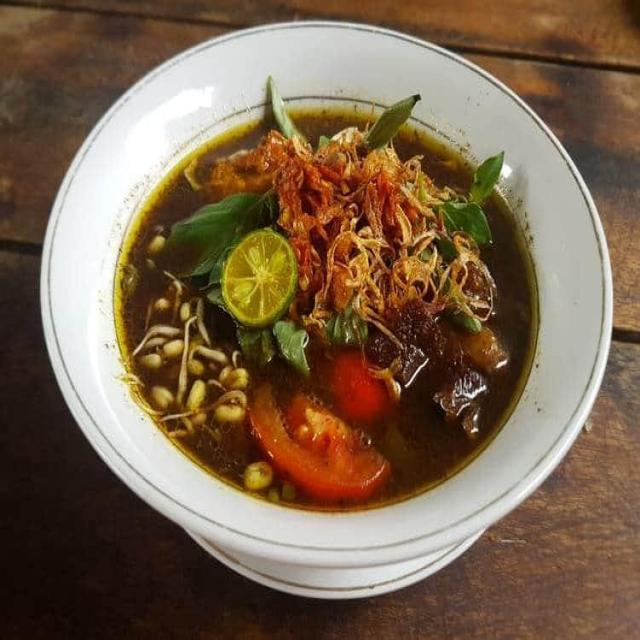Rawon: (117, 105, 526, 498)
